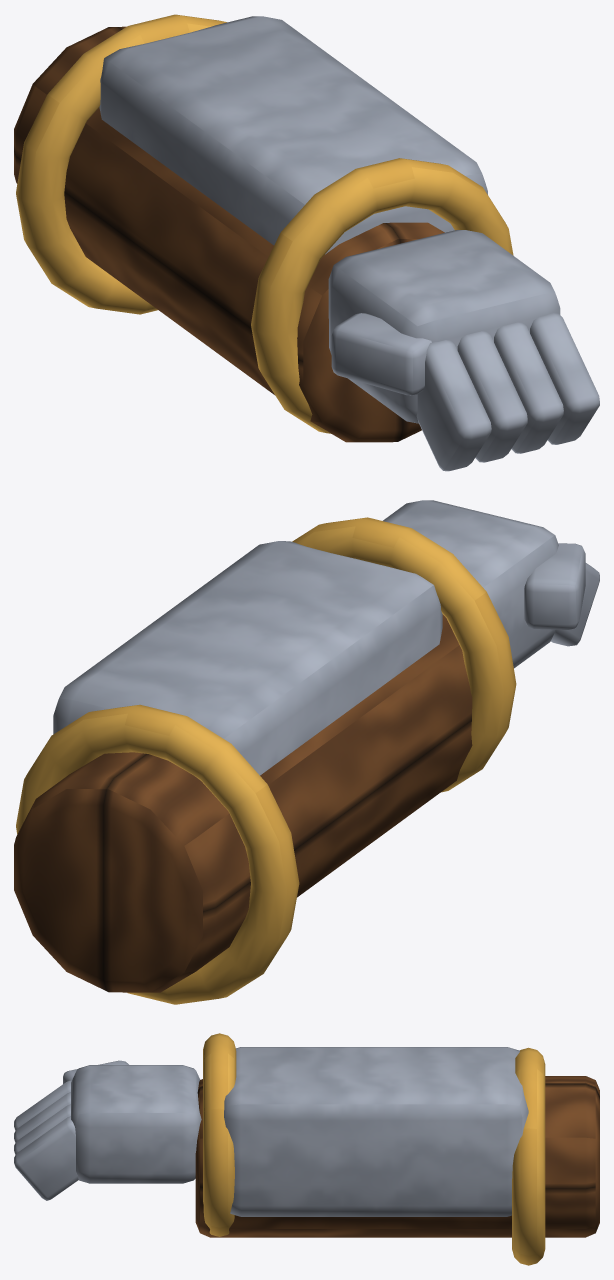
File: fp_gauntlet_right.glb
3 renders of one model, top to bottom at view 1: azimuth 30°, elevation 25°; view 2: azimuth 150°, elevation 25°; view 3: azimuth 270°, elevation 25°, orthographic. The views are drawn at different scales.
Visible parts, largest first — view 1: Vambrace, ForearmSleeve, HandBack, CuffTrim, ElbowTrim, Finger0, Thumb, Finger1, Finger2, Finger3; view 2: ForearmSleeve, Vambrace, ElbowTrim, CuffTrim, HandBack, Thumb, Finger0; view 3: Vambrace, ForearmSleeve, HandBack, ElbowTrim, CuffTrim, Finger3, Finger0, Finger1, Finger2.
Part boxes in pixels (<box>): Vambrace: <box>99,16,487,254</box>; ForearmSleeve: <box>14,26,444,442</box>; HandBack: <box>328,230,560,423</box>; CuffTrim: <box>251,158,513,433</box>; ElbowTrim: <box>16,14,226,314</box>; Finger0: <box>416,340,491,471</box>; Thumb: <box>331,313,431,395</box>; Finger1: <box>457,331,527,462</box>; Finger2: <box>494,322,563,453</box>; Finger3: <box>530,313,599,444</box>; ForearmSleeve: <box>14,614,472,992</box>; Vambrace: <box>53,541,442,775</box>; ElbowTrim: <box>16,704,299,1004</box>; CuffTrim: <box>292,517,516,792</box>; HandBack: <box>383,500,558,668</box>; Thumb: <box>524,543,585,629</box>; Finger0: <box>551,563,599,646</box>; Vambrace: <box>224,1047,528,1216</box>; ForearmSleeve: <box>195,1076,599,1237</box>; HandBack: <box>71,1065,201,1183</box>; ElbowTrim: <box>512,1047,545,1265</box>; CuffTrim: <box>203,1033,236,1236</box>; Finger3: <box>14,1116,78,1200</box>; Finger0: <box>14,1080,71,1130</box>; Finger1: <box>14,1092,70,1142</box>; Finger2: <box>14,1104,70,1154</box>.
Bounding box in the file's own units: 0.184 × 0.1953 × 0.4929.
Materials: 4 (4 with a texture image).
